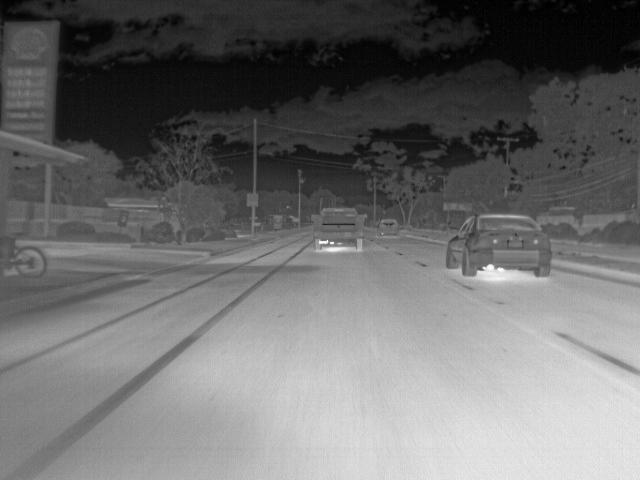car: (445, 213, 552, 279), (314, 205, 366, 253), (380, 218, 400, 237)
